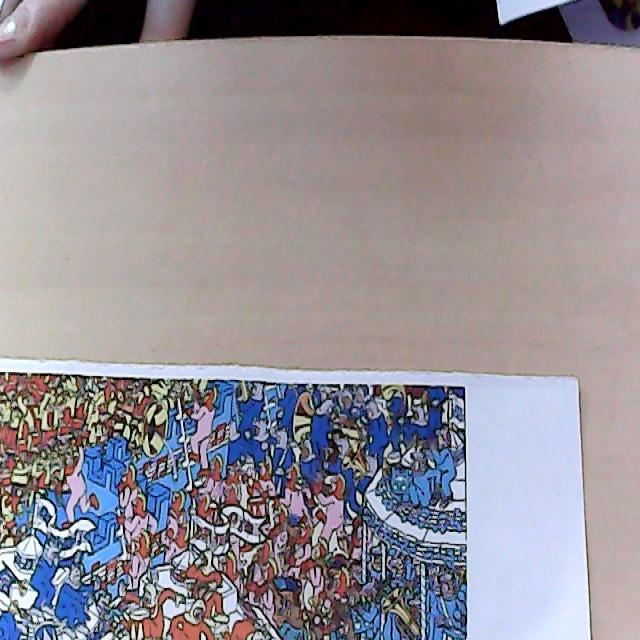waldo: (347, 556, 364, 585)
